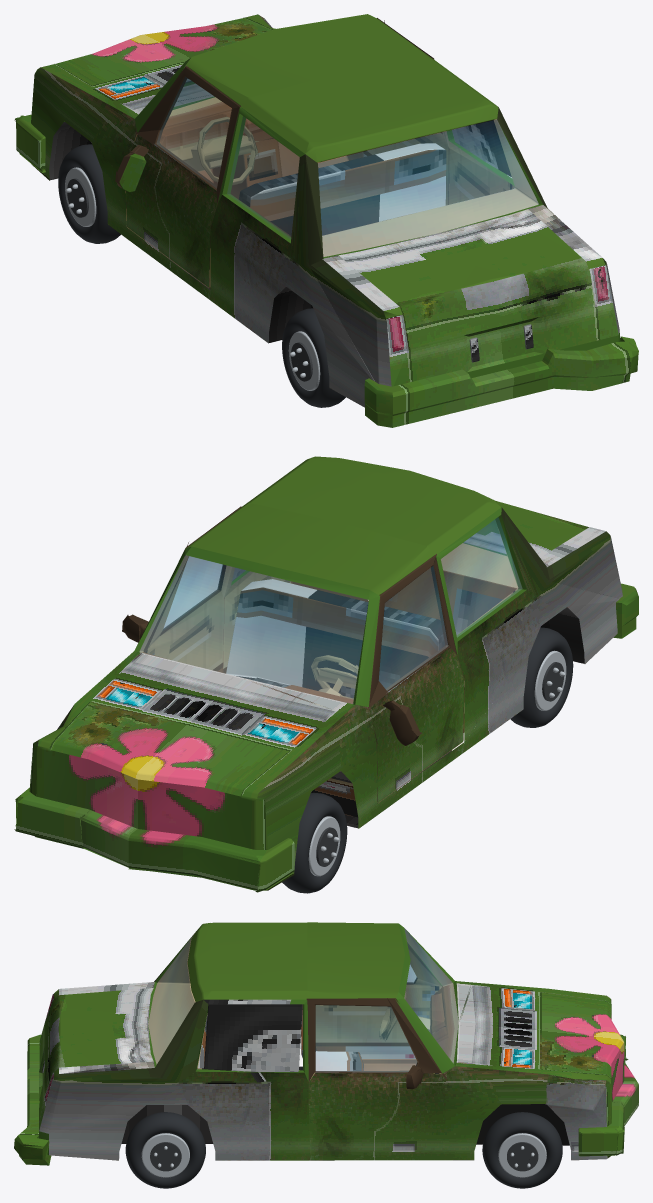
Rendered from car-moe_v.glb.
3 renders of one model, top to bottom at view 1: azimuth 30°, elevation 25°; view 2: azimuth 150°, elevation 25°; view 3: azimuth 270°, elevation 25°, orthographic. The views are drawn at different scales.
Visible parts, largest first — view 1: moe_vShape.003, moe_vShape.008, moe_vShape.002, moe_vShape.007, moe_vShape.006, TrunkRotShape.023, DoorDRotShape.091, HoodRotShape.022, DoorDRotShape.093, extrasShape.010, Rounded tire.133, moe_vShape.005 (+7 smaller); view 2: moe_vShape.005, moe_vShape.007, moe_vShape.003, moe_vShape.006, moe_vShape.008, HoodRotShape.022, DoorDRotShape.091, moe_vShape.002, DoorDRotShape.093, DoorPRotShape.101, Rounded tire.133, TrunkRotShape.023 (+7 smaller); view 3: moe_vShape.008, moe_vShape.003, moe_vShape.004, HoodRotShape.022, DoorPRotShape.099, moe_vShape.006, TrunkRotShape.023, moe_vShape.002, extrasShape.010, moe_vShape.007, moe_vShape.005, DoorPRotShape.102 (+9 smaller).
Boxes of the visible parts, x1,y1,x2,y2 form: moe_vShape.003: (31, 14, 619, 407); moe_vShape.008: (186, 14, 498, 162); moe_vShape.002: (135, 58, 638, 427); moe_vShape.007: (173, 79, 538, 256); moe_vShape.006: (125, 65, 585, 287); TrunkRotShape.023: (339, 209, 594, 348); DoorDRotShape.091: (115, 66, 240, 288); HoodRotShape.022: (55, 18, 271, 109); DoorDRotShape.093: (156, 77, 231, 188); extrasShape.010: (197, 116, 533, 362); Rounded tire.133: (58, 144, 120, 243); moe_vShape.005: (14, 14, 275, 172); moe_vShape.005: (14, 651, 354, 892); moe_vShape.007: (139, 517, 522, 703); moe_vShape.003: (33, 507, 622, 890); moe_vShape.006: (134, 543, 567, 817); moe_vShape.008: (187, 456, 501, 595); HoodRotShape.022: (51, 662, 335, 796); DoorDRotShape.091: (367, 554, 464, 802); moe_vShape.002: (36, 507, 638, 890); DoorDRotShape.093: (379, 566, 447, 690); DoorPRotShape.101: (146, 562, 231, 672); Rounded tire.133: (282, 792, 347, 893); TrunkRotShape.023: (464, 500, 588, 557); moe_vShape.008: (187, 922, 404, 1001); moe_vShape.003: (39, 941, 611, 1160); moe_vShape.004: (178, 1066, 500, 1160); HoodRotShape.022: (472, 985, 623, 1077); DoorPRotShape.099: (308, 1072, 445, 1151); moe_vShape.006: (58, 928, 469, 1082); TrunkRotShape.023: (44, 988, 153, 1095); moe_vShape.002: (14, 924, 622, 1165); extrasShape.010: (42, 991, 406, 1072); moe_vShape.007: (148, 928, 458, 1063); moe_vShape.005: (455, 981, 638, 1156); DoorPRotShape.102: (316, 1005, 416, 1071).
Size of the model in its own units: 2.38 by 1.83 by 5.44.
14 materials, 11 textured.
